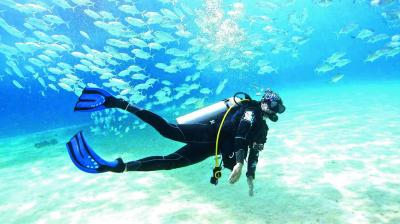Divers: (65, 55, 300, 200)
